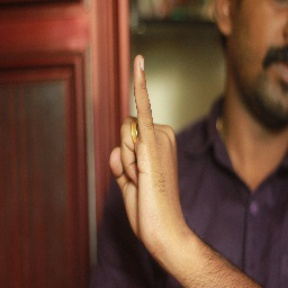I: (107, 52, 184, 239)
